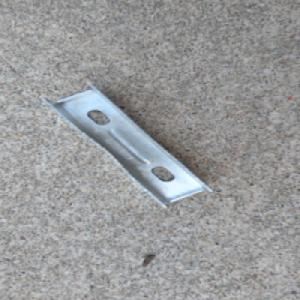ClampPart: (41, 80, 216, 208)
